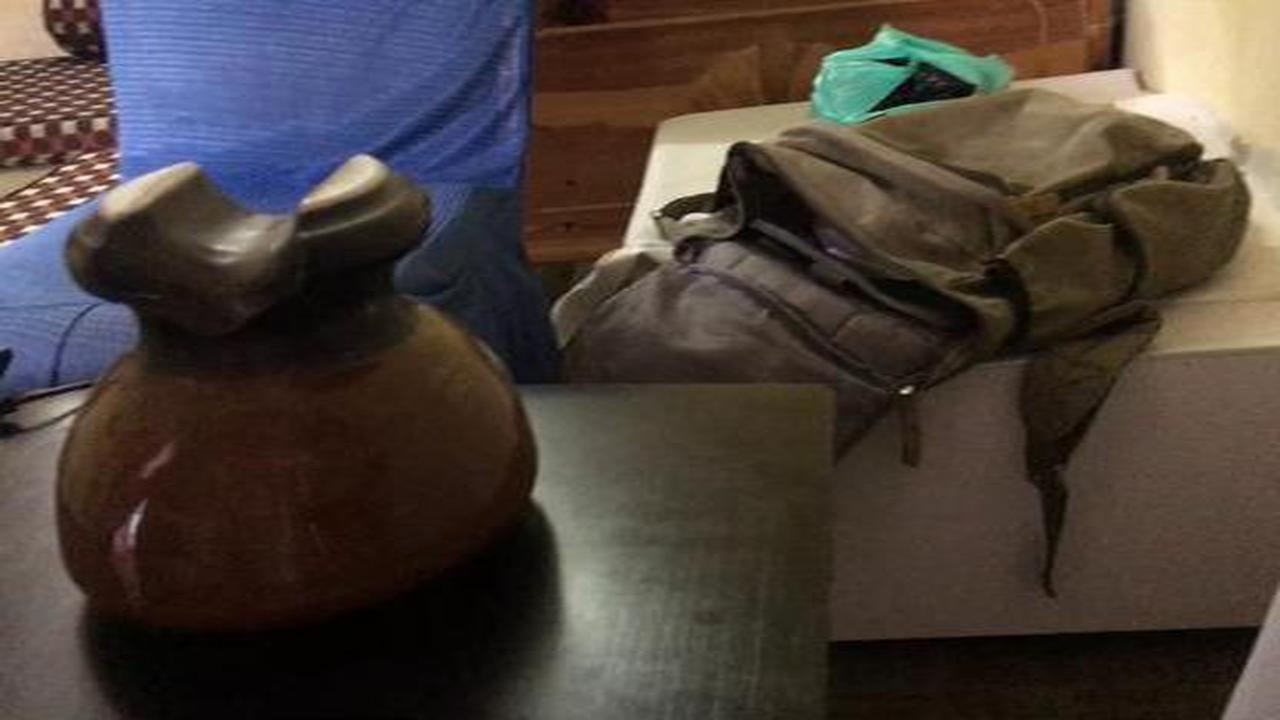insulator_pin: (34, 146, 561, 656)
